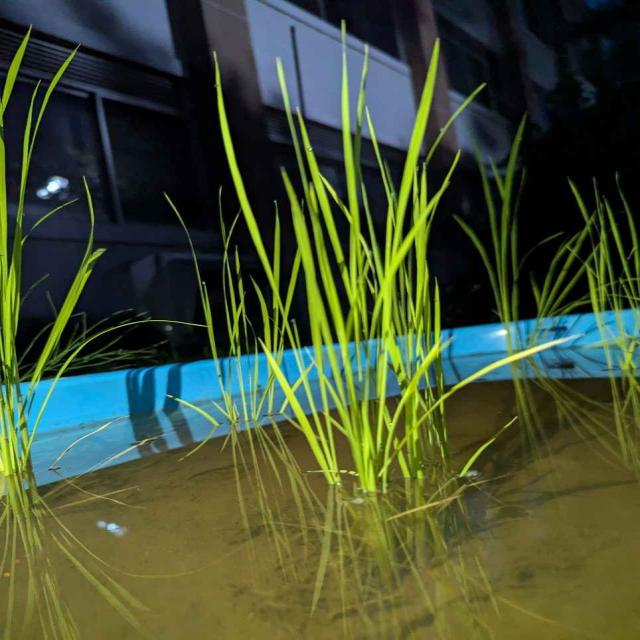6month_ine: (149, 19, 503, 586), (0, 16, 104, 523), (554, 168, 640, 469)
